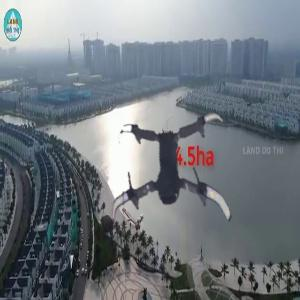drone: (103, 113, 240, 250)
